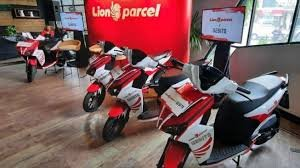motor: (157, 59, 298, 168), (104, 53, 172, 145)
